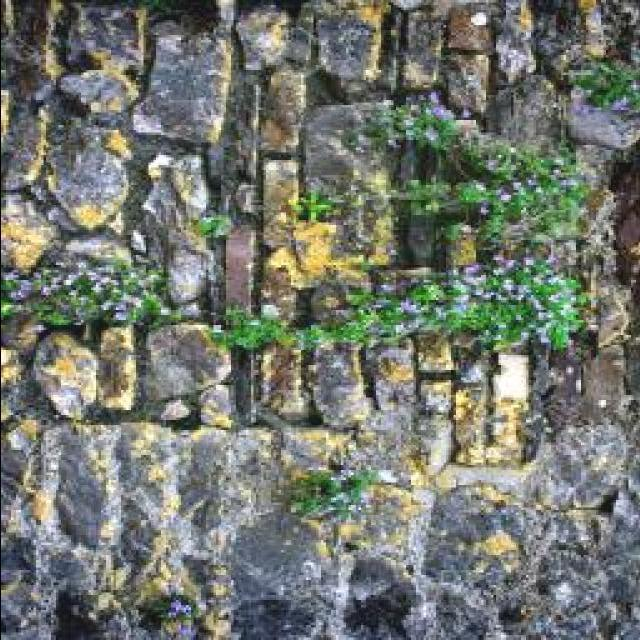crack: (1, 0, 638, 638), (6, 7, 236, 336), (184, 2, 242, 418), (241, 22, 274, 435), (133, 27, 235, 152), (43, 420, 129, 553), (221, 11, 268, 209), (45, 134, 135, 233), (312, 13, 379, 93), (397, 7, 452, 99), (259, 68, 314, 152), (443, 55, 495, 119), (445, 4, 496, 55), (3, 421, 41, 485)
dampness: (2, 417, 269, 634)
vegetation: (244, 93, 602, 352), (402, 144, 589, 247), (299, 102, 406, 234), (169, 422, 265, 537), (122, 421, 207, 541), (372, 90, 474, 157), (32, 327, 107, 415), (63, 3, 146, 81), (493, 75, 569, 152), (3, 4, 60, 104), (442, 131, 527, 191), (3, 103, 58, 193), (39, 540, 111, 603), (234, 5, 300, 73), (1, 198, 59, 273), (1, 566, 62, 635), (491, 1, 541, 84), (55, 68, 136, 119), (563, 101, 640, 153), (568, 57, 640, 112), (388, 176, 473, 222), (54, 229, 138, 274), (566, 136, 624, 195), (142, 2, 227, 41), (307, 278, 368, 329), (291, 188, 340, 223)
